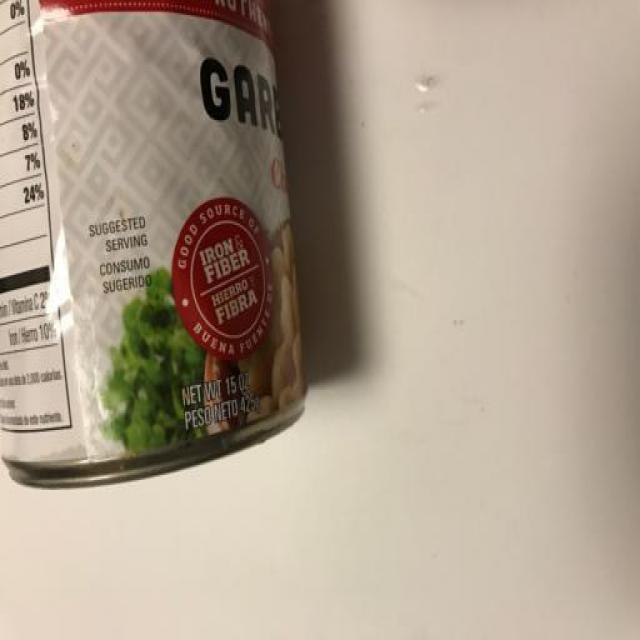metel: (1, 3, 366, 504)
